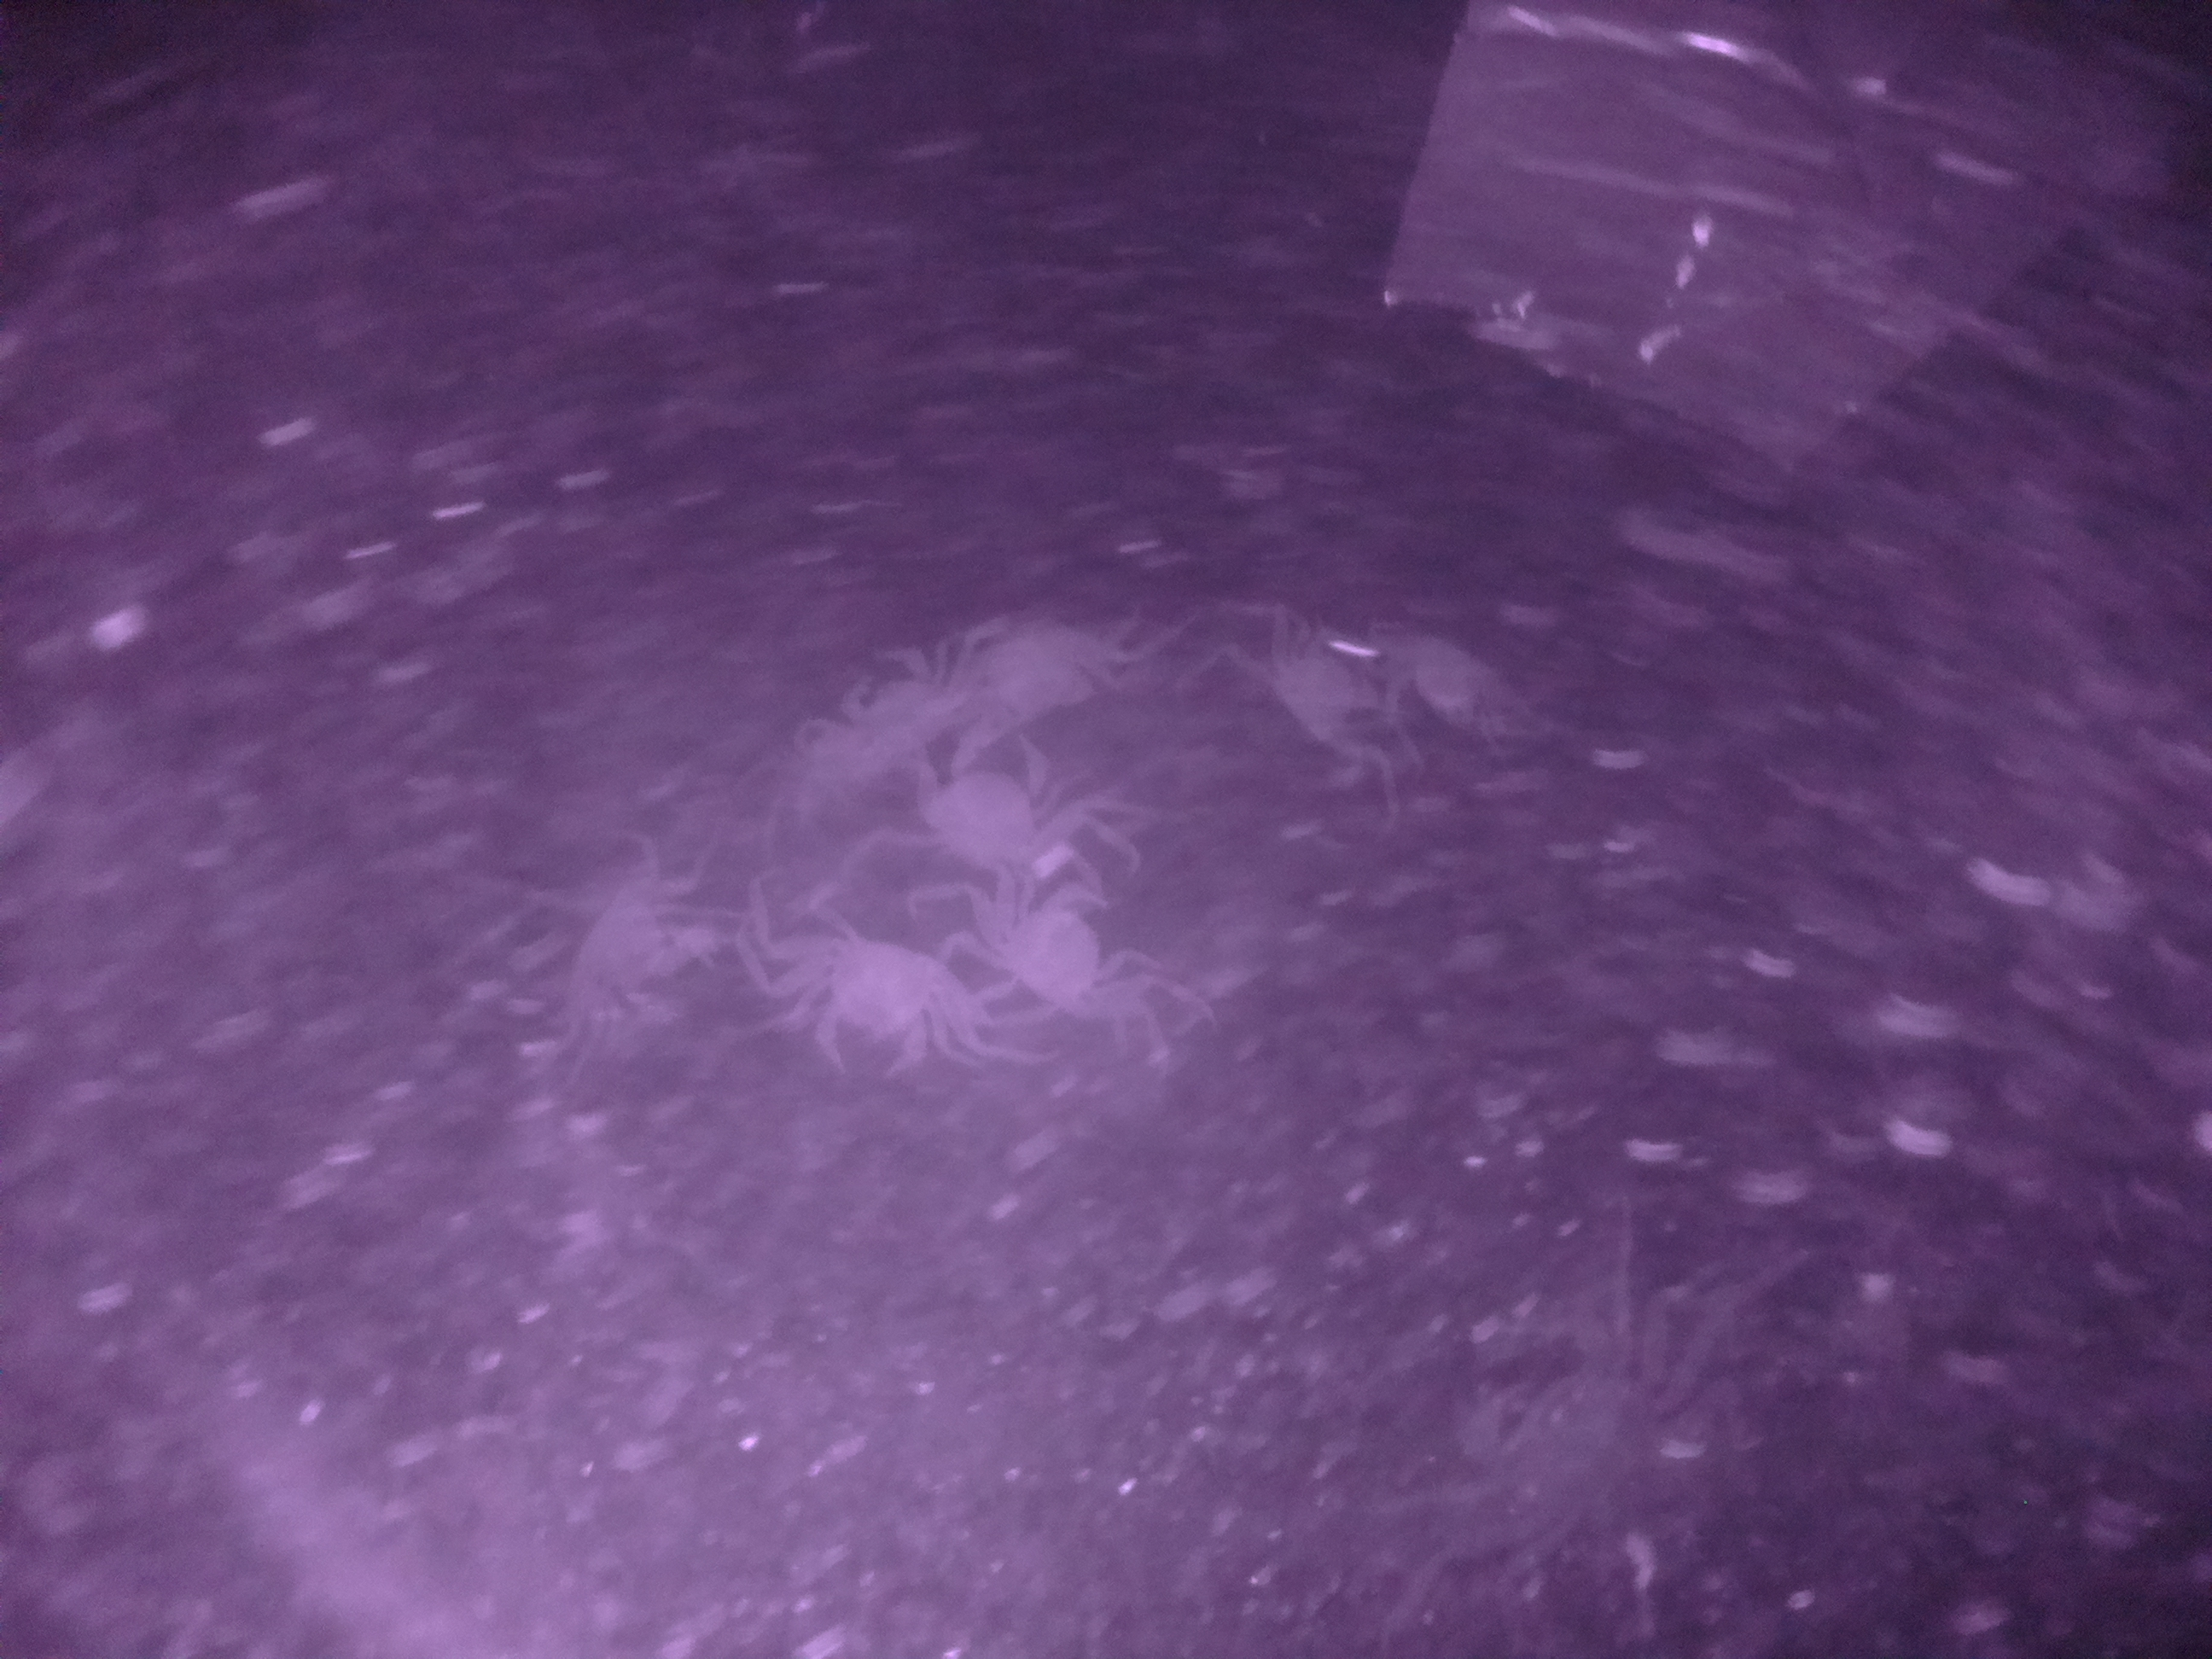Crab: (779, 910, 989, 1086), (925, 708, 1092, 904)
